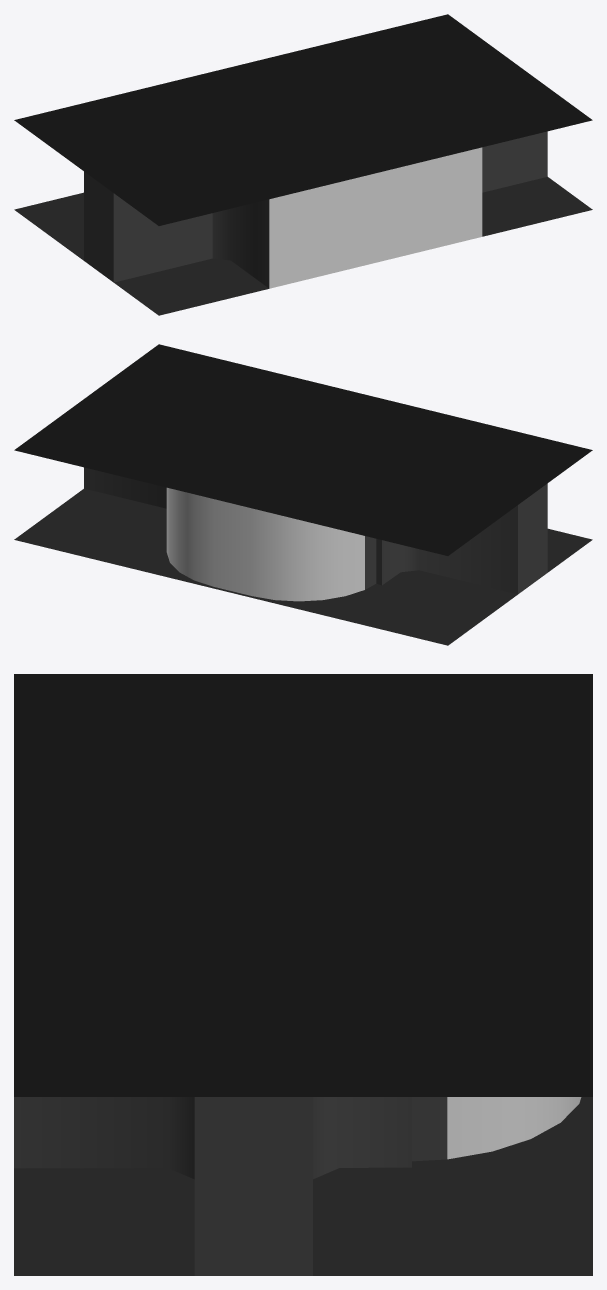
Rendered from gnuchanos show studio.glb.
The picture shows the model from 3 angles, top to bottom: view 1: azimuth 30°, elevation 25°; view 2: azimuth 150°, elevation 25°; view 3: azimuth 270°, elevation 25°; orthographic projection. The views are drawn at different scales.
Parts seen in each view (by area): view 1: Plane; view 2: Plane, green_screen; view 3: Plane, green_screen.
Part boxes in pixels (x1=…): Plane: x1=14, y1=14, x2=592, y2=315; Plane: x1=14, y1=344, x2=592, y2=645; green_screen: x1=166, y1=487, x2=364, y2=601; Plane: x1=14, y1=674, x2=592, y2=1275; green_screen: x1=447, y1=1097, x2=581, y2=1159.
Bounding box in the file's own units: 24.43 × 4.81 × 14.13.
3 materials, 1 textured.
